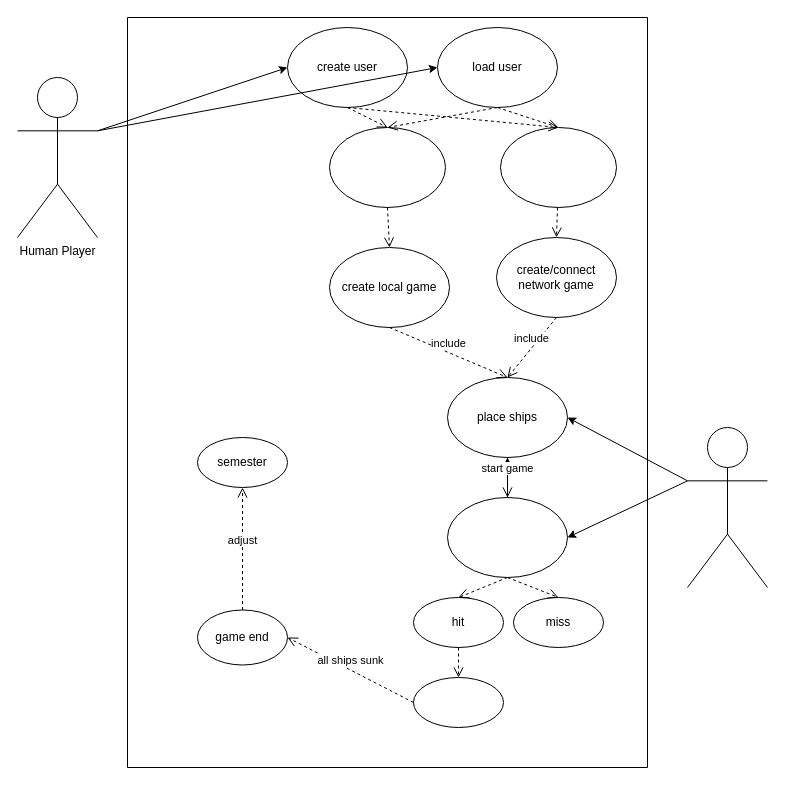
The diagram is 785 pixels wide and 785 high, and some of its shapes have lost their labels. The centre of each missing label's shape, as x and y in pixels:
AI Player: (727,507)
choose multiplayer: (558,167)
choose singleplayer: (387,167)
fire / shoot: (507,537)
sunk: (458,702)
